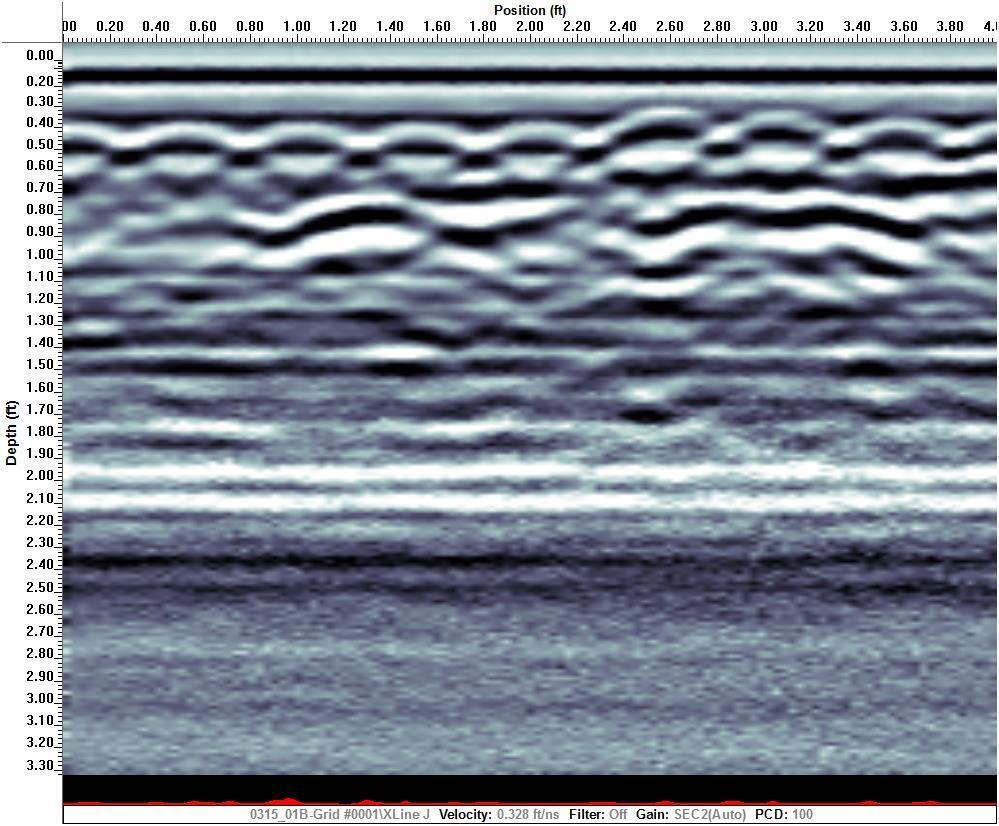hyperbola: (724, 101, 827, 152), (609, 101, 712, 152), (135, 116, 238, 167), (481, 112, 584, 163), (365, 112, 468, 163), (257, 117, 360, 168), (841, 108, 944, 159)
